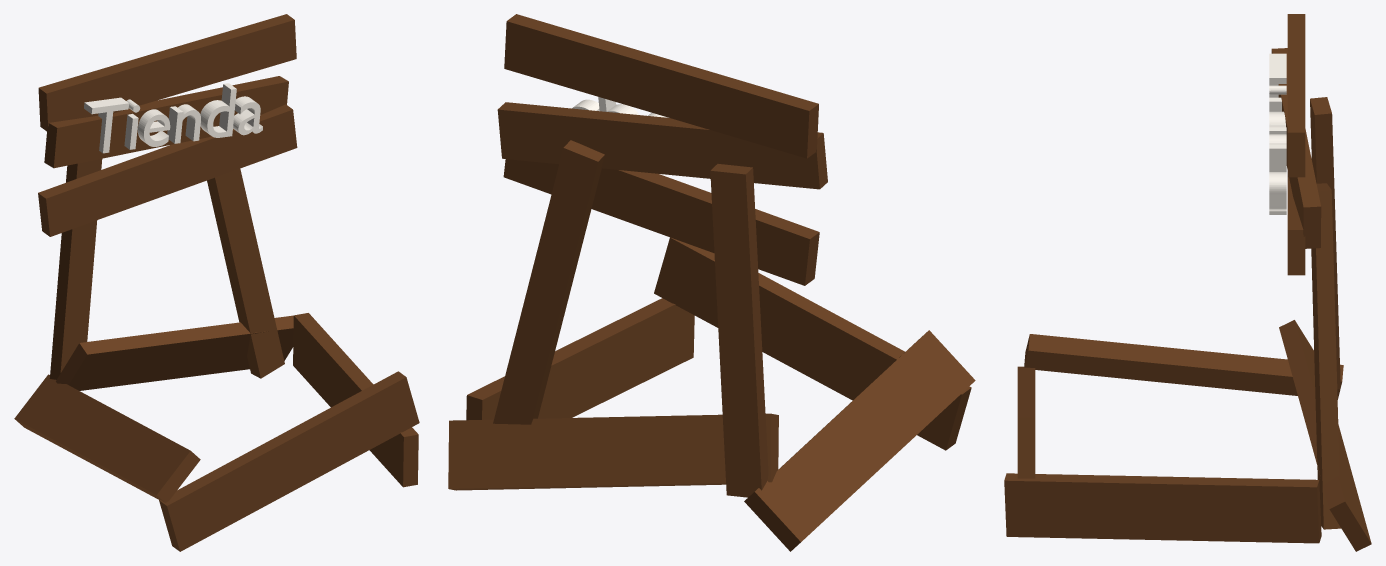
The model's file is TiendaBanco.fbx.
3 views of the same model, side by side, from view 1: azimuth 30°, elevation 25°; view 2: azimuth 150°, elevation 25°; view 3: azimuth 270°, elevation 25° (orthographic). The views are drawn at different scales.
Visible parts, largest first — view 1: Cube, Cube.008, Cube.006, Cube.002, Cube.003, Cube.005, Cube.007, Cube.001, Text, Cube.004; view 2: Cube.003, Cube.006, Cube.002, Cube.007, Cube, Cube.004, Cube.005, Cube.001, Cube.008, Text; view 3: Cube.001, Cube.002, Cube.005, Cube.003, Cube.006, Text, Cube.004, Cube.007, Cube, Cube.008.
Part boxes in pixels (x1=…): Cube: x1=159, y1=371, x2=419, y2=551; Cube.008: x1=38, y1=104, x2=297, y2=236; Cube.006: x1=38, y1=14, x2=296, y2=131; Cube.002: x1=14, y1=374, x2=200, y2=502; Cube.003: x1=56, y1=315, x2=293, y2=390; Cube.005: x1=207, y1=168, x2=284, y2=378; Cube.007: x1=44, y1=76, x2=288, y2=168; Cube.001: x1=293, y1=313, x2=418, y2=487; Text: x1=84, y1=83, x2=262, y2=153; Cube.004: x1=49, y1=158, x2=102, y2=379; Cube.003: x1=448, y1=413, x2=778, y2=490; Cube.006: x1=504, y1=14, x2=818, y2=158; Cube.002: x1=744, y1=330, x2=975, y2=551; Cube.007: x1=497, y1=102, x2=827, y2=189; Cube: x1=654, y1=237, x2=971, y2=450; Cube.004: x1=710, y1=164, x2=768, y2=497; Cube.005: x1=493, y1=140, x2=604, y2=424; Cube.001: x1=466, y1=298, x2=694, y2=420; Cube.008: x1=503, y1=159, x2=819, y2=285; Text: x1=572, y1=97, x2=668, y2=117; Cube.001: x1=1004, y1=473, x2=1321, y2=543; Cube.002: x1=1024, y1=334, x2=1343, y2=399; Cube.005: x1=1311, y1=183, x2=1341, y2=529; Cube.003: x1=1279, y1=320, x2=1371, y2=551; Cube.006: x1=1287, y1=14, x2=1305, y2=177; Text: x1=1269, y1=53, x2=1286, y2=214; Cube.004: x1=1310, y1=97, x2=1340, y2=389; Cube.007: x1=1271, y1=48, x2=1321, y2=248; Cube: x1=1017, y1=366, x2=1035, y2=478; Cube.008: x1=1287, y1=177, x2=1305, y2=275.
Size of the model in its own units: 1178 by 1505 by 1187.
